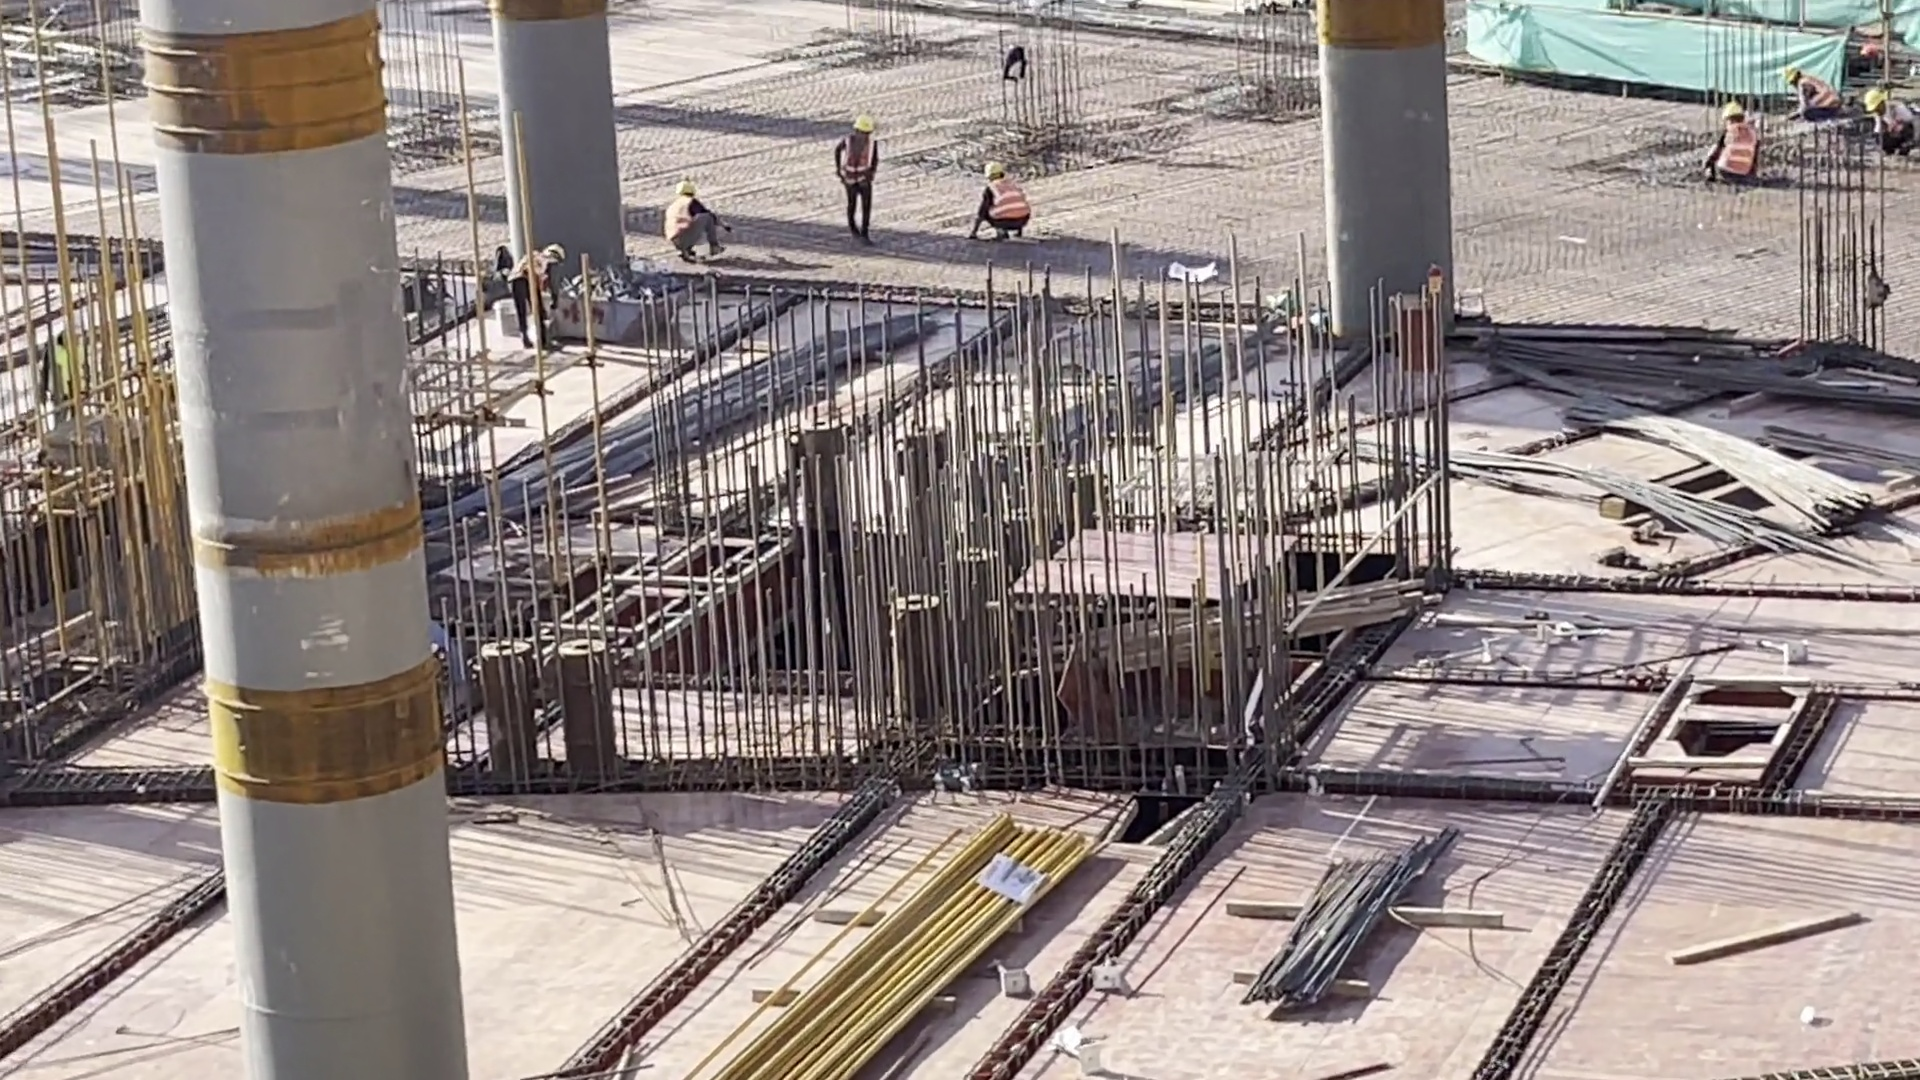helmet: (842, 111, 878, 137), (979, 152, 1005, 182), (679, 174, 707, 202), (537, 239, 565, 263), (1778, 61, 1808, 78), (1724, 102, 1750, 118)
person: (503, 227, 574, 354), (648, 178, 751, 261), (833, 105, 888, 243), (970, 148, 1037, 250), (1711, 87, 1763, 204), (1860, 65, 1912, 167), (1774, 53, 1837, 134)
vest: (656, 190, 708, 239), (837, 137, 879, 190), (512, 252, 556, 298), (1712, 129, 1759, 172), (985, 178, 1026, 218), (1875, 104, 1916, 137), (1807, 76, 1838, 116)
